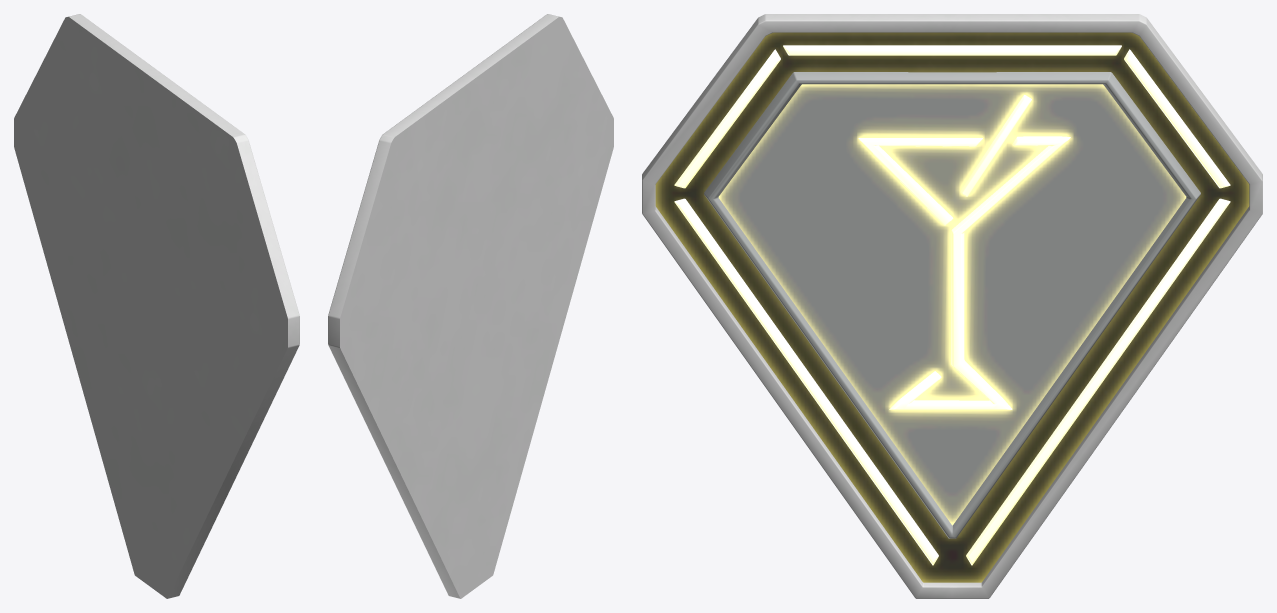
Rendered from bar_sign_1_a.glb.
3 renders of one model, left to right at view 1: azimuth 30°, elevation 25°; view 2: azimuth 150°, elevation 25°; view 3: azimuth 270°, elevation 25°, orthographic. The views are drawn at different scales.
Parts seen in each view (by area): view 1: bar_sign_1; view 2: bar_sign_1; view 3: bar_sign_1.
Boxes of the visible parts, bbox=[...] form: bar_sign_1: bbox=[14, 14, 299, 598]; bar_sign_1: bbox=[328, 14, 613, 598]; bar_sign_1: bbox=[642, 14, 1262, 598].
Bounding box in the file's own units: 0.047 × 1.51 × 1.47.
1 material, 1 textured.
